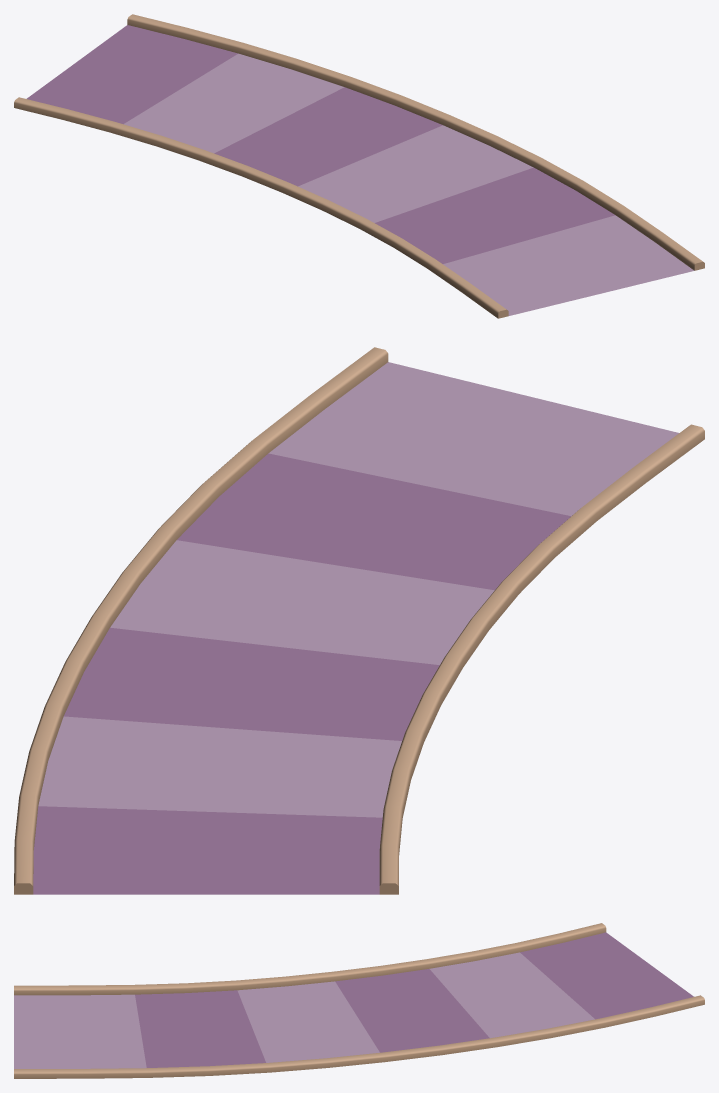
Rendered from LuffyRoad_30.fbx.
3 renders of one model, top to bottom at view 1: azimuth 30°, elevation 25°; view 2: azimuth 150°, elevation 25°; view 3: azimuth 270°, elevation 25°, orthographic. The views are drawn at different scales.
Parts seen in each view (by area): view 1: LUFFY_Road_37, LUFFY_Road_33, LUFFY_Road_36, LUFFY_Road_32, LUFFY_Road_35, LUFFY_Road_34, LUFFY_Road_30, LUFFY_Road_31; view 2: LUFFY_Road_37, LUFFY_Road_33, LUFFY_Road_36, LUFFY_Road_35, LUFFY_Road_32, LUFFY_Road_34, LUFFY_Road_30, LUFFY_Road_31; view 3: LUFFY_Road_37, LUFFY_Road_33, LUFFY_Road_36, LUFFY_Road_32, LUFFY_Road_35, LUFFY_Road_34, LUFFY_Road_30, LUFFY_Road_31.
Boxes of the visible parts, bbox=[...] form: LUFFY_Road_37: bbox=[443, 215, 694, 315]; LUFFY_Road_33: bbox=[375, 167, 614, 263]; LUFFY_Road_36: bbox=[298, 125, 533, 222]; LUFFY_Road_32: bbox=[214, 87, 442, 186]; LUFFY_Road_35: bbox=[124, 53, 344, 153]; LUFFY_Road_34: bbox=[26, 25, 237, 124]; LUFFY_Road_30: bbox=[127, 14, 704, 270]; LUFFY_Road_31: bbox=[14, 97, 508, 318]; LUFFY_Road_37: bbox=[268, 362, 678, 516]; LUFFY_Road_33: bbox=[177, 453, 570, 590]; LUFFY_Road_36: bbox=[110, 540, 494, 664]; LUFFY_Road_35: bbox=[38, 716, 401, 817]; LUFFY_Road_32: bbox=[64, 627, 439, 740]; LUFFY_Road_34: bbox=[33, 806, 382, 894]; LUFFY_Road_30: bbox=[14, 347, 388, 894]; LUFFY_Road_31: bbox=[379, 424, 704, 894]; LUFFY_Road_37: bbox=[14, 994, 146, 1068]; LUFFY_Road_33: bbox=[135, 990, 265, 1067]; LUFFY_Road_36: bbox=[237, 981, 379, 1062]; LUFFY_Road_32: bbox=[335, 969, 489, 1052]; LUFFY_Road_35: bbox=[429, 952, 594, 1038]; LUFFY_Road_34: bbox=[520, 932, 693, 1019]; LUFFY_Road_30: bbox=[14, 995, 704, 1078]; LUFFY_Road_31: bbox=[14, 923, 606, 995].
Bounding box in the file's own units: 1027 × 19.65 × 1994.
